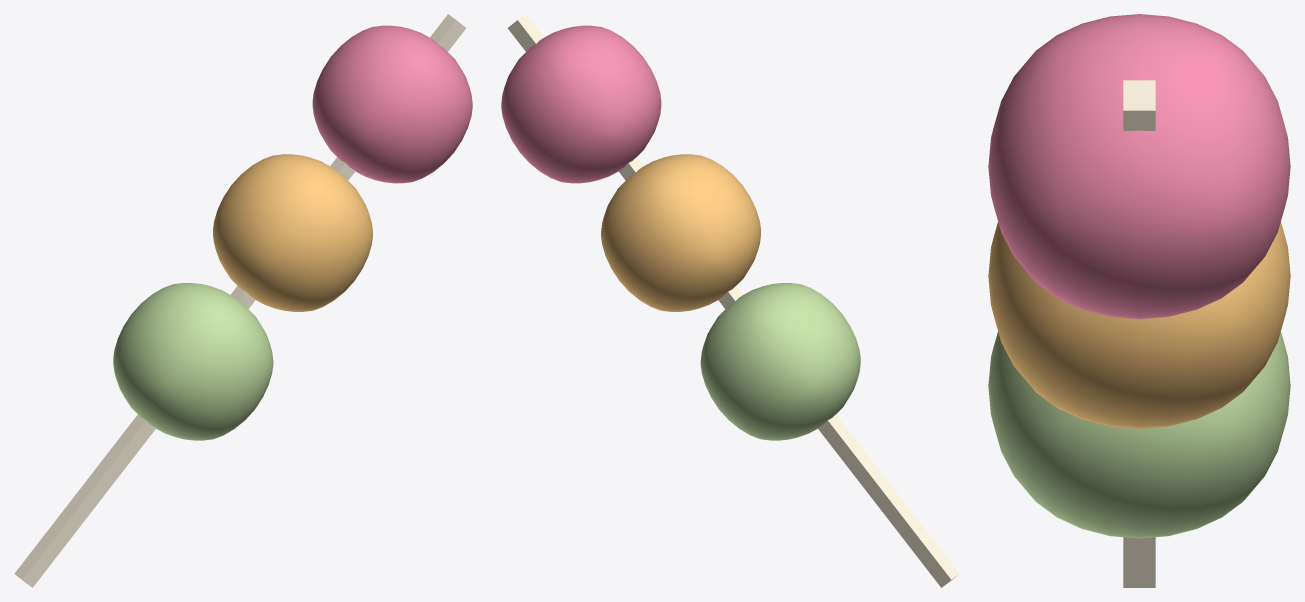
Rendered from dango.gltf.
3 views of the same model, side by side, from view 1: azimuth 30°, elevation 25°; view 2: azimuth 150°, elevation 25°; view 3: azimuth 270°, elevation 25° (orthographic). The views are drawn at different scales.
Visible parts, largest first — view 1: Cube.429; view 2: Cube.429; view 3: Cube.429.
Boxes of the visible parts, box(x1,y1,x2,y2) form: Cube.429: box(14, 14, 472, 587); Cube.429: box(501, 14, 959, 587); Cube.429: box(988, 14, 1290, 587).
Bounding box in the file's own units: 2.14 × 2.14 × 0.6413.
1 material, 1 textured.
